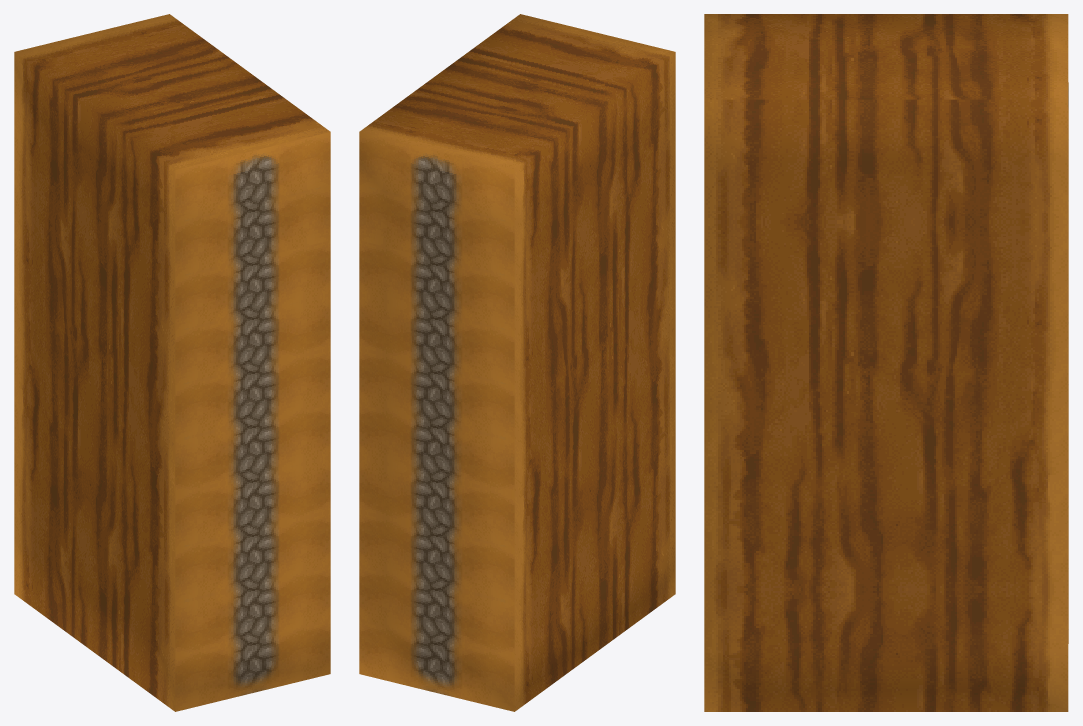
Rendered from SM_AP_CanyonWall_3.glb.
3 views of the same model, side by side, from view 1: azimuth 30°, elevation 25°; view 2: azimuth 150°, elevation 25°; view 3: azimuth 270°, elevation 25° (orthographic). The views are drawn at different scales.
Parts seen in each view (by area): view 1: SM_AP_CanyonWall_3; view 2: SM_AP_CanyonWall_3; view 3: SM_AP_CanyonWall_3.
Boxes of the visible parts, x1,y1,x2,y2 form: SM_AP_CanyonWall_3: (14, 14, 330, 711); SM_AP_CanyonWall_3: (359, 14, 675, 711); SM_AP_CanyonWall_3: (704, 14, 1068, 711).
Size of the model in its own units: 12 by 40 by 21.56.
Materials: 1 (1 with a texture image).
